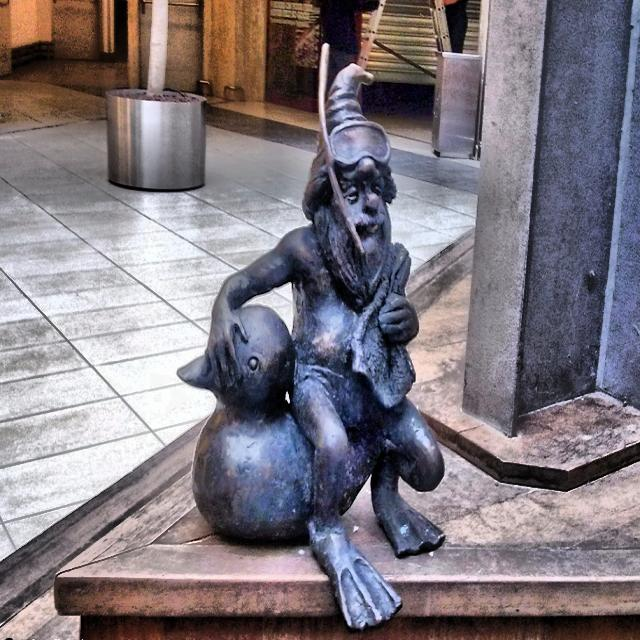Babelek_Chlaptus: (179, 49, 444, 631), (0, 0, 12, 75)
